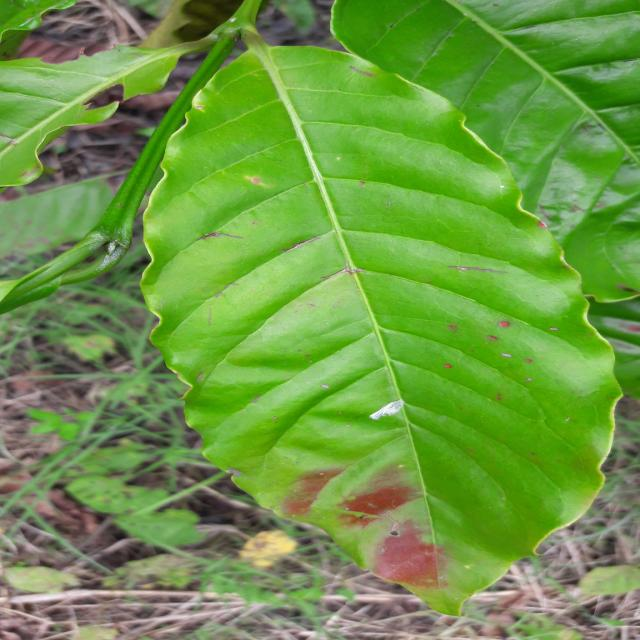Plaga-AranaRoja: (138, 39, 640, 619)
